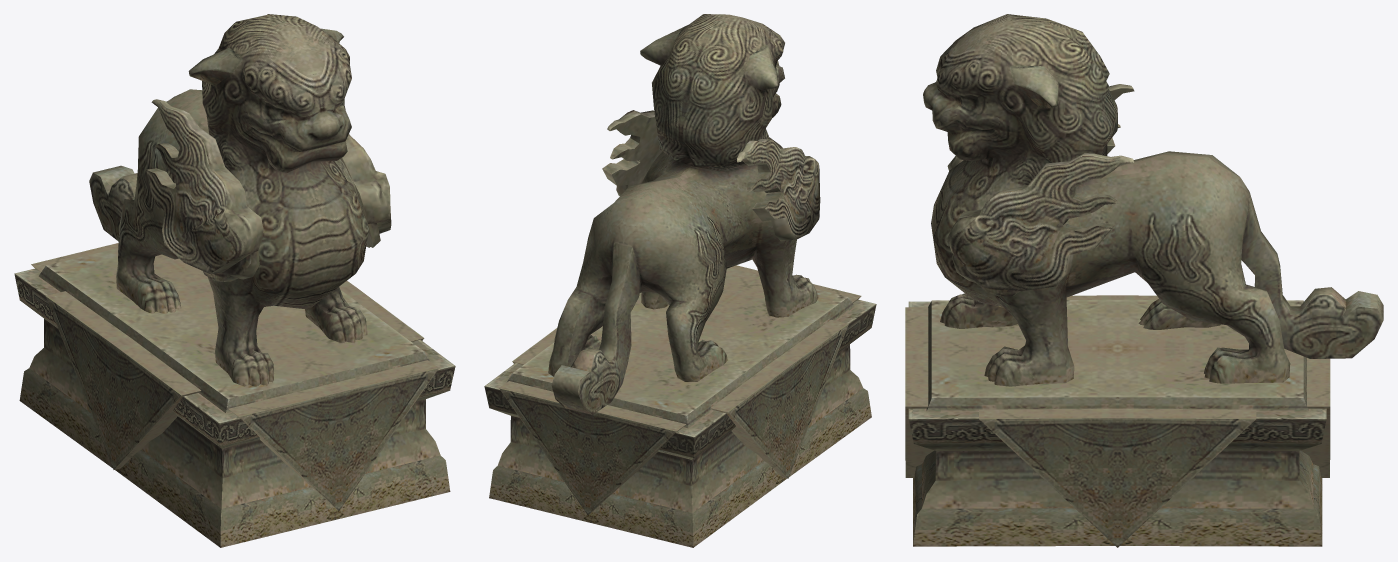
The model's file is Scene_Build_TaZiShaMo_PoSunShiZi_1.FBX.
3 renders of one model, left to right at view 1: azimuth 30°, elevation 25°; view 2: azimuth 150°, elevation 25°; view 3: azimuth 270°, elevation 25°, orthographic. The views are drawn at different scales.
Parts seen in each view (by area): view 1: Scene_Build_TaZiShaMo_PoSunShiZi_1; view 2: Scene_Build_TaZiShaMo_PoSunShiZi_1; view 3: Scene_Build_TaZiShaMo_PoSunShiZi_1.
Boxes of the visible parts, bbox=[...] form: Scene_Build_TaZiShaMo_PoSunShiZi_1: bbox=[14, 14, 455, 547]; Scene_Build_TaZiShaMo_PoSunShiZi_1: bbox=[484, 14, 876, 547]; Scene_Build_TaZiShaMo_PoSunShiZi_1: bbox=[905, 14, 1383, 547].
Size of the model in its own units: 231 by 416 by 386.
